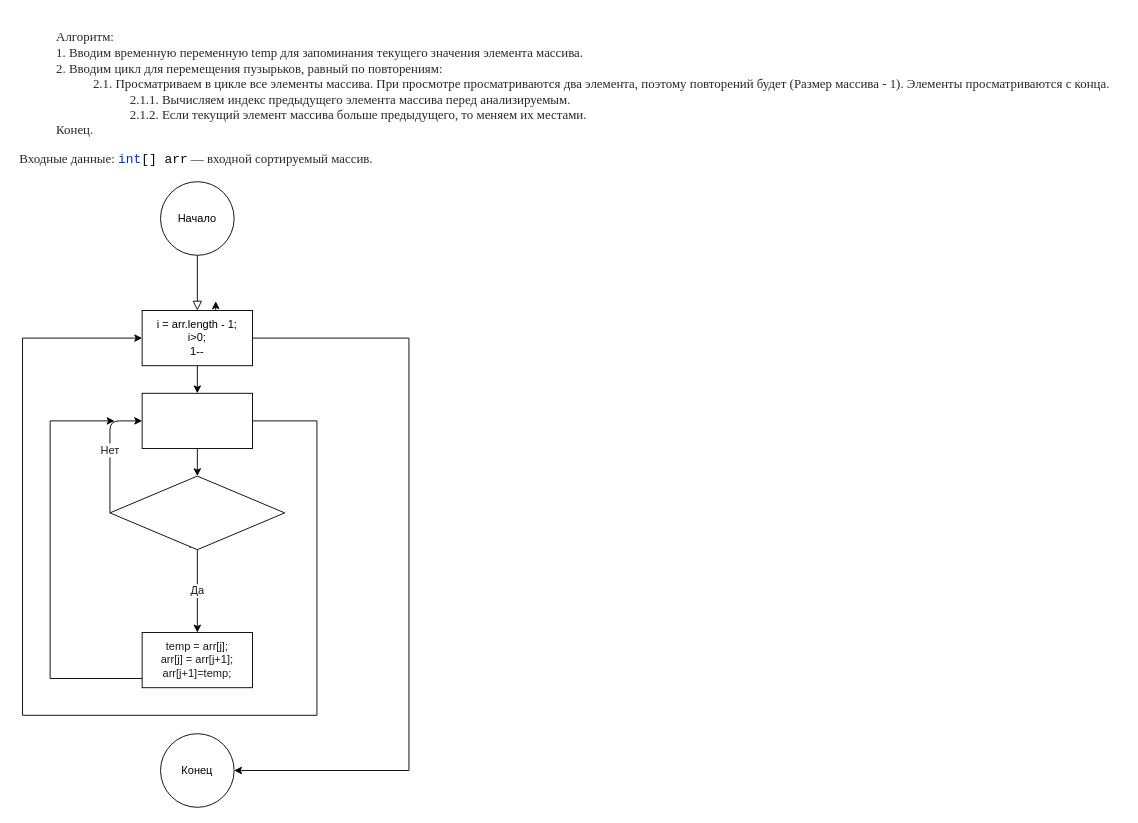
The diagram is 1138 pixels wide and 823 high, and some of its shapes have lost their labels. Here are the shapes that lost their labels. From the top down, the box of each, then its label:
(141, 392, 253, 448): j = 0; j<i;1++
(109, 475, 285, 550): arr[j] > arr[j + 1]
